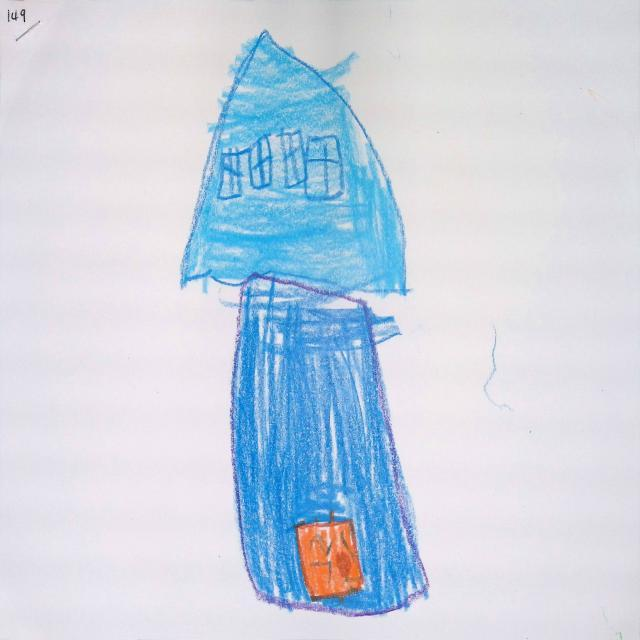door: (295, 523, 362, 598)
house: (175, 23, 439, 624)
wall: (229, 283, 430, 613)
window: (306, 137, 344, 199), (281, 130, 306, 188), (218, 150, 248, 198), (249, 137, 272, 189)
